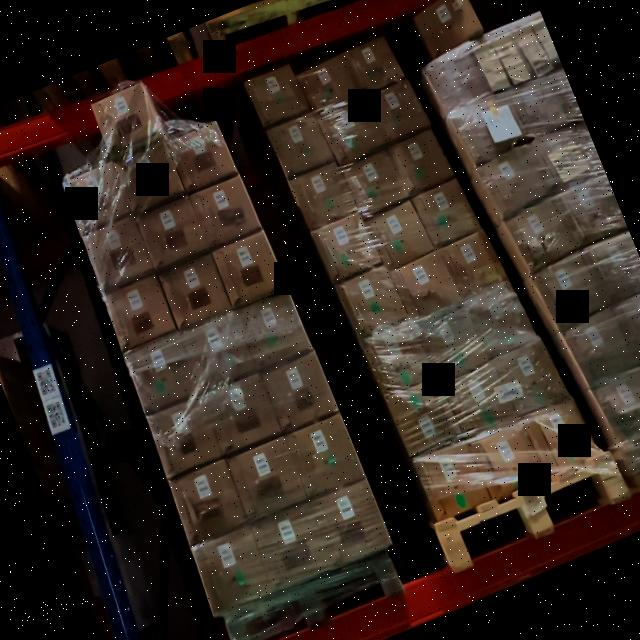box: (252, 501, 338, 589), (194, 526, 276, 614), (313, 480, 392, 564), (414, 438, 492, 522), (287, 412, 364, 496), (171, 460, 249, 542), (230, 438, 308, 518), (470, 423, 546, 500), (263, 352, 338, 430), (126, 334, 201, 412), (205, 374, 280, 451), (238, 291, 312, 368), (182, 312, 256, 389), (388, 378, 461, 456), (103, 273, 177, 349), (149, 398, 223, 473), (213, 230, 286, 306), (160, 252, 233, 328), (524, 398, 596, 474), (92, 81, 164, 155), (84, 215, 155, 289), (363, 321, 434, 394), (496, 340, 566, 414), (138, 196, 208, 268), (190, 176, 260, 247), (339, 264, 406, 336), (422, 309, 489, 381), (116, 140, 184, 210), (566, 312, 632, 384), (447, 365, 514, 435), (558, 175, 625, 245), (537, 256, 604, 326), (314, 211, 382, 279), (65, 164, 133, 232), (170, 121, 237, 190), (453, 94, 520, 163), (507, 198, 573, 268), (469, 286, 534, 357), (439, 230, 504, 300), (291, 160, 357, 228), (413, 179, 478, 247), (481, 148, 546, 215), (394, 252, 458, 320), (247, 61, 310, 127), (321, 99, 384, 165), (270, 114, 334, 178), (389, 130, 452, 195), (370, 200, 432, 266), (344, 150, 407, 214), (414, 0, 484, 56), (535, 128, 597, 191), (587, 232, 640, 305), (367, 81, 428, 144), (428, 50, 489, 111), (474, 30, 532, 93), (505, 79, 562, 139), (597, 368, 640, 444), (299, 56, 357, 112), (346, 38, 402, 94), (516, 17, 562, 76), (544, 68, 582, 124), (615, 291, 640, 363), (572, 120, 604, 174)
